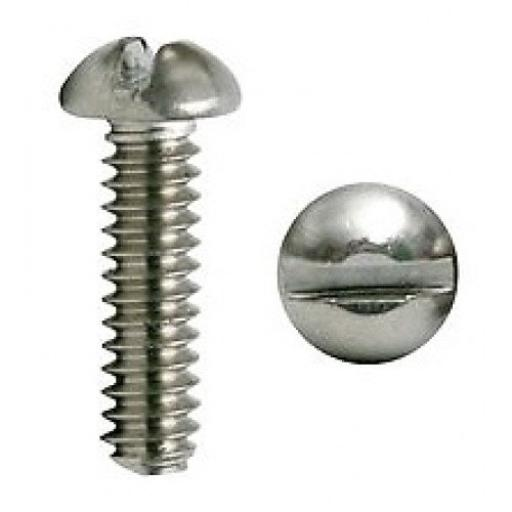Slotted: (280, 180, 461, 369)
